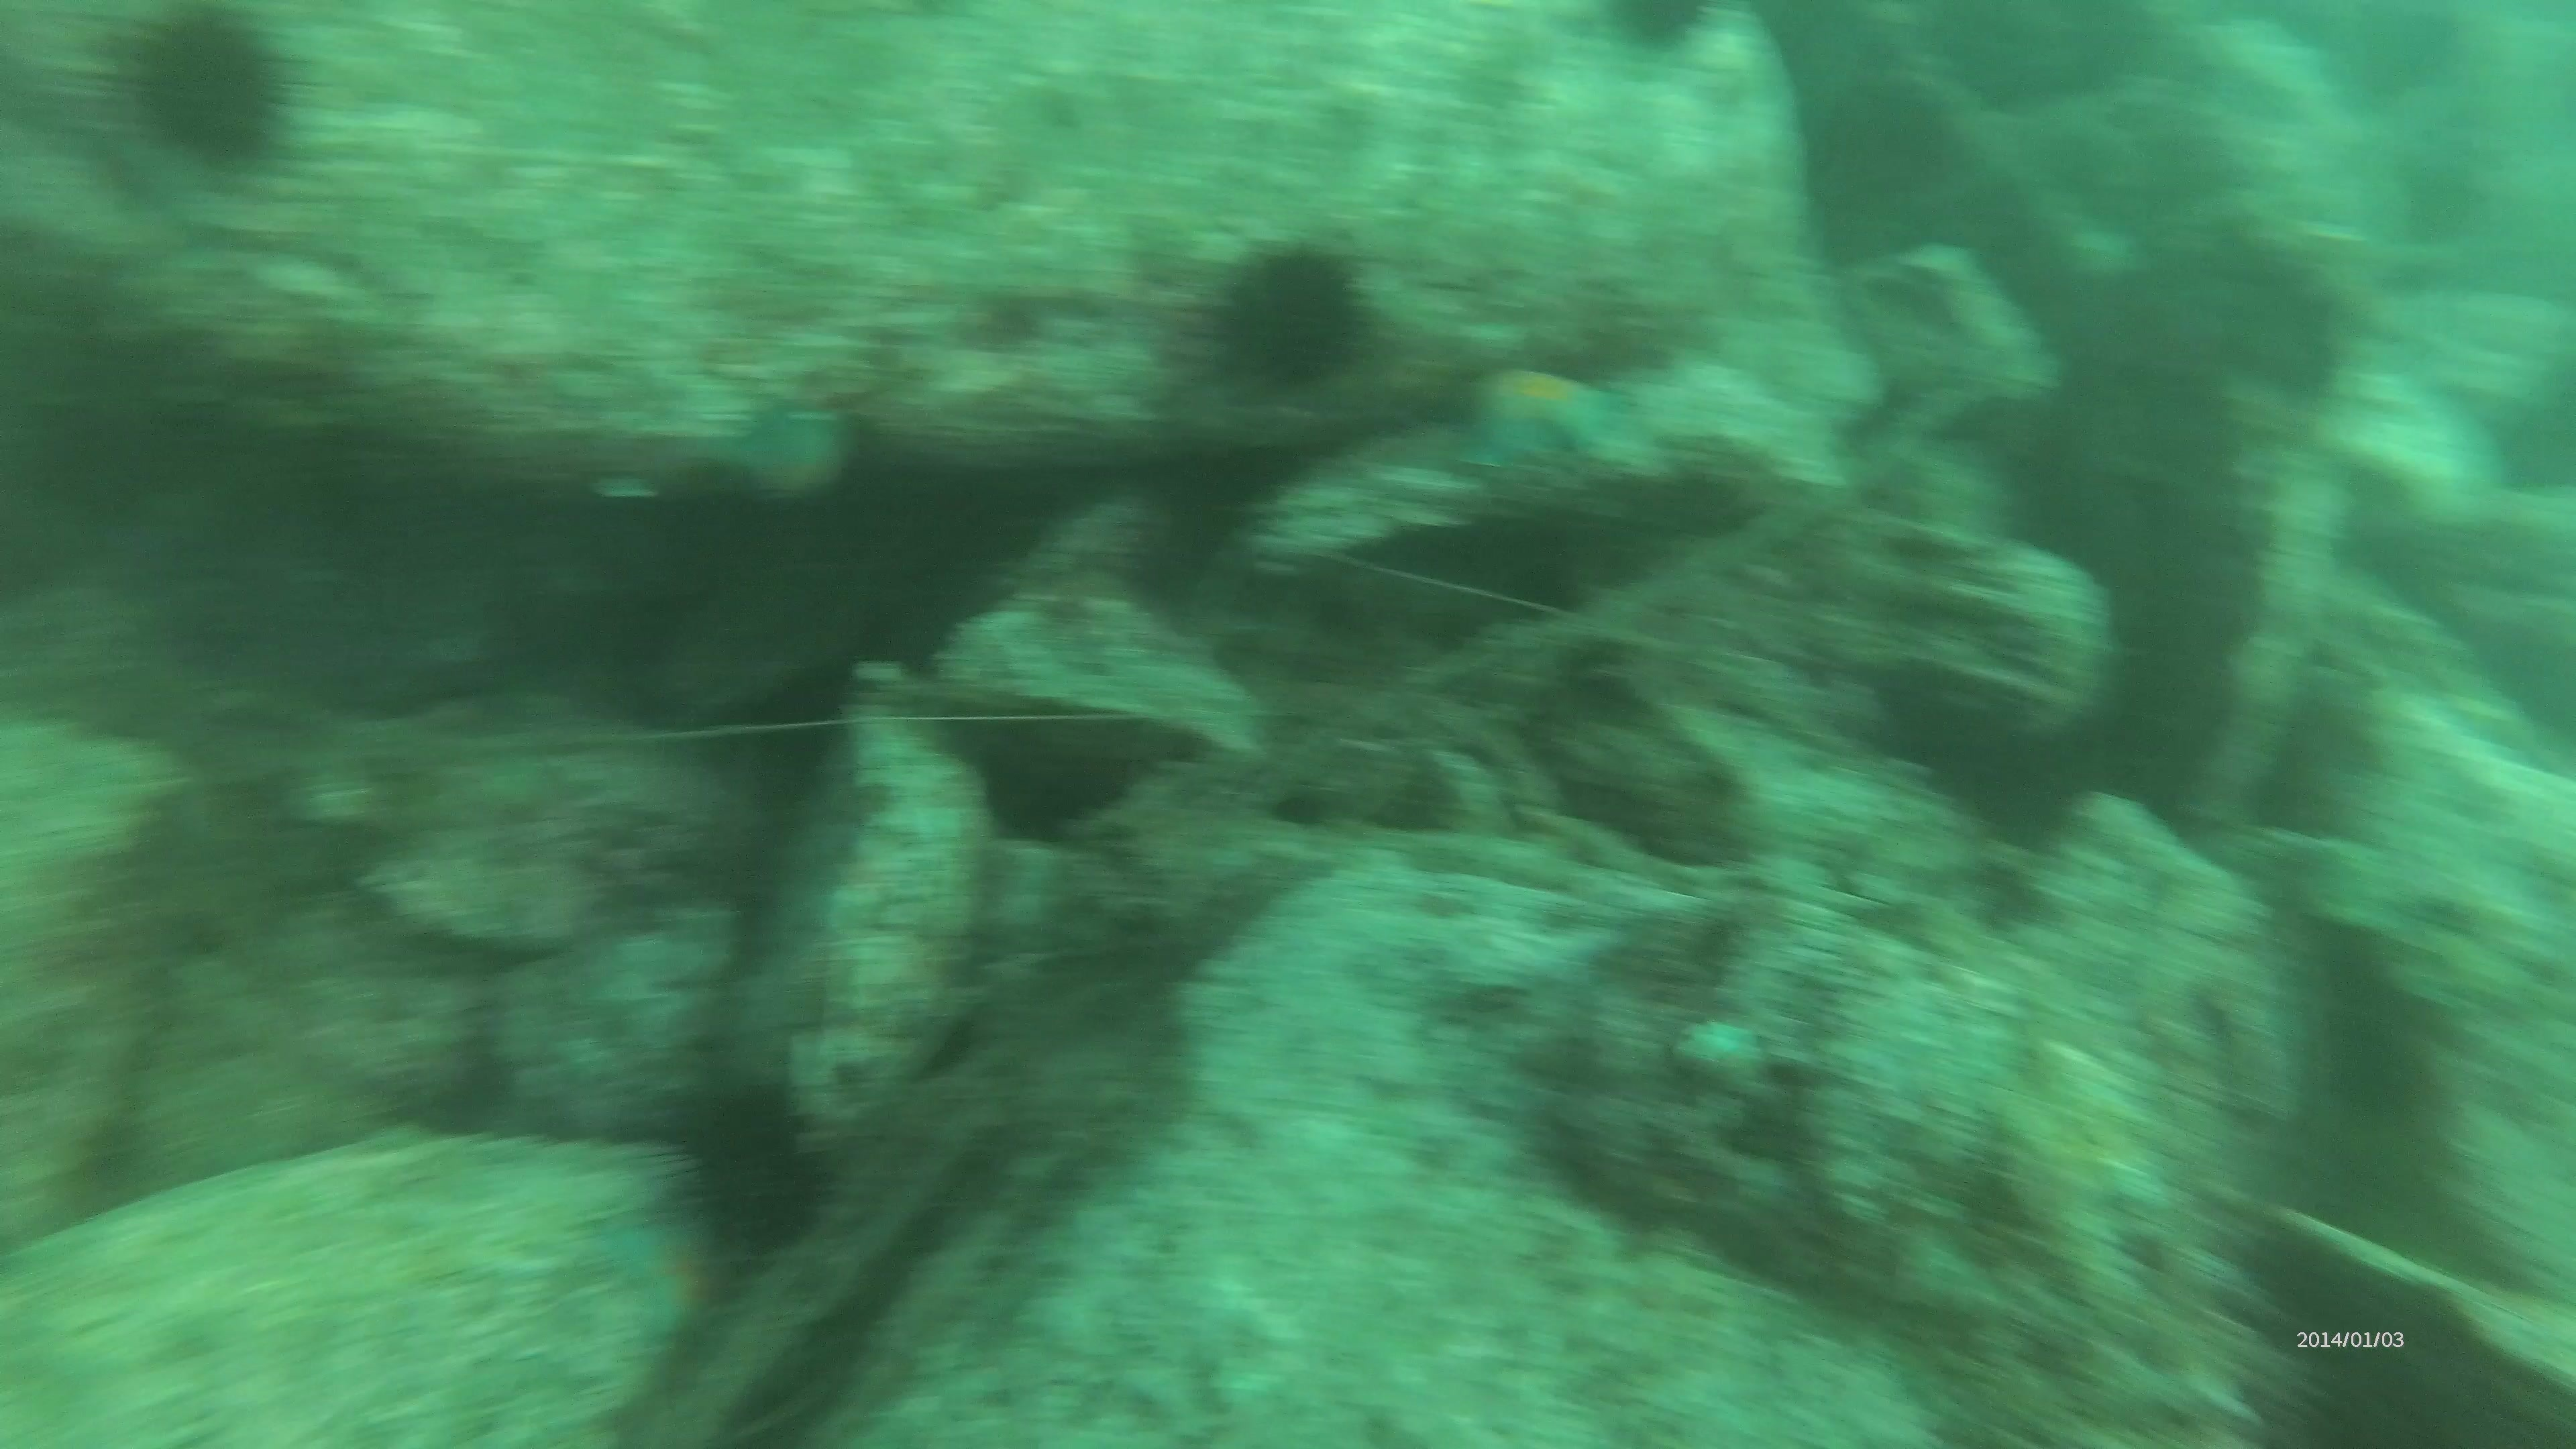echinus: (99, 4, 311, 180), (653, 1070, 842, 1263), (1194, 230, 1380, 403), (1591, 0, 1720, 65)
starfish: (579, 1184, 755, 1359), (1445, 352, 1631, 478), (713, 384, 867, 511)
